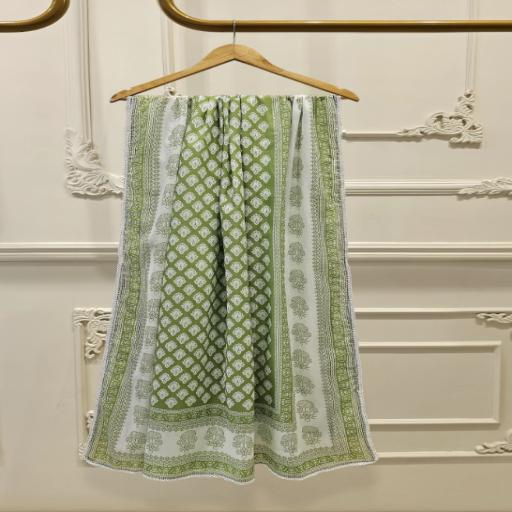Dupatta: (95, 86, 386, 488)
